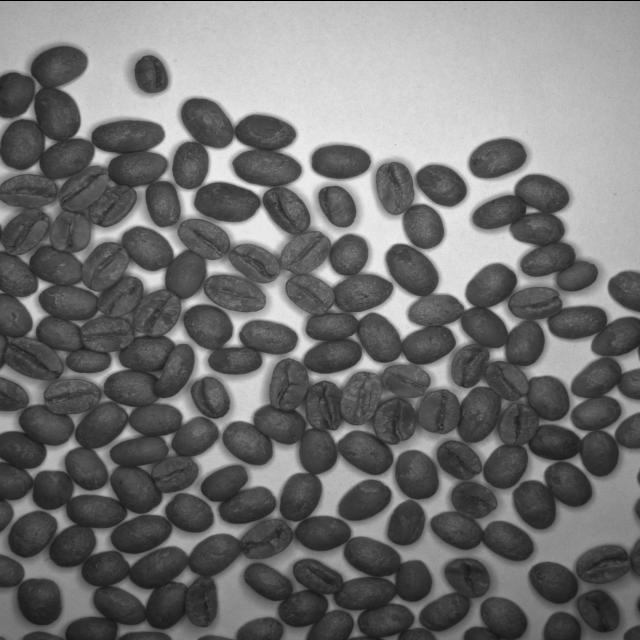good: (165, 84, 242, 152), (452, 124, 532, 182), (226, 140, 313, 192), (85, 108, 173, 158), (569, 537, 640, 598), (24, 36, 96, 94), (28, 84, 92, 146), (230, 102, 306, 154), (382, 240, 447, 300), (522, 552, 587, 612), (189, 175, 263, 227), (170, 210, 238, 264), (180, 300, 244, 356), (254, 182, 320, 236), (412, 151, 472, 210), (366, 158, 424, 218), (1, 505, 64, 560), (0, 330, 65, 383), (114, 221, 180, 273), (10, 398, 76, 450), (88, 579, 152, 632), (274, 220, 332, 278), (567, 422, 625, 480), (386, 448, 448, 502), (507, 479, 563, 538), (98, 148, 180, 188), (270, 585, 338, 633), (332, 430, 400, 478), (368, 393, 426, 449), (340, 530, 406, 579), (0, 114, 57, 170), (108, 463, 166, 518), (202, 268, 274, 312), (284, 552, 348, 601), (76, 239, 134, 293), (353, 310, 405, 370), (288, 506, 350, 556), (438, 554, 500, 604), (74, 396, 130, 451), (72, 542, 136, 590), (569, 586, 633, 634), (296, 382, 348, 441), (41, 371, 106, 418), (411, 384, 465, 440), (84, 180, 142, 232), (228, 236, 286, 288), (378, 356, 436, 408), (132, 288, 192, 338), (480, 518, 540, 568), (97, 436, 185, 470), (426, 508, 488, 556), (397, 201, 451, 256), (303, 142, 379, 181), (241, 316, 315, 356), (136, 172, 187, 230), (464, 257, 522, 308), (395, 321, 459, 367), (126, 548, 196, 590), (252, 396, 308, 448), (106, 512, 172, 556), (270, 464, 320, 522), (180, 577, 230, 635), (338, 366, 384, 428), (560, 384, 622, 430), (478, 445, 540, 491), (0, 207, 54, 259), (224, 418, 278, 470), (444, 342, 498, 394), (332, 270, 393, 316), (379, 498, 429, 554), (220, 481, 282, 526), (457, 381, 502, 443), (31, 457, 79, 515), (187, 530, 245, 578), (279, 272, 343, 315), (267, 354, 311, 416), (32, 279, 100, 319), (510, 172, 574, 214), (548, 301, 612, 343), (548, 458, 596, 514), (34, 142, 102, 181), (44, 205, 94, 258), (31, 312, 91, 356), (18, 573, 66, 628), (424, 439, 490, 479), (64, 491, 128, 532), (86, 278, 148, 320), (74, 312, 136, 354), (163, 250, 213, 302), (318, 181, 370, 231), (240, 557, 294, 605), (512, 240, 584, 276), (490, 405, 544, 453), (458, 308, 514, 354), (524, 376, 580, 422), (568, 355, 620, 404), (476, 595, 532, 640), (421, 588, 475, 634), (524, 421, 586, 461), (34, 239, 84, 288), (510, 211, 576, 248), (235, 518, 293, 560), (104, 370, 164, 410), (305, 341, 368, 379), (168, 135, 212, 189), (338, 482, 392, 526), (0, 175, 64, 212), (61, 451, 116, 494), (170, 418, 226, 460), (60, 165, 106, 215), (448, 478, 498, 524), (328, 234, 380, 278), (166, 494, 220, 536), (592, 312, 640, 359), (188, 373, 238, 418), (508, 283, 564, 323), (300, 428, 346, 476), (468, 194, 529, 230), (484, 361, 536, 403), (144, 586, 192, 630), (406, 294, 464, 329), (391, 562, 438, 604), (202, 465, 252, 504), (48, 524, 94, 566), (126, 404, 186, 436), (558, 256, 606, 296), (150, 456, 198, 494), (506, 324, 544, 372), (309, 315, 369, 345), (223, 612, 286, 640)
